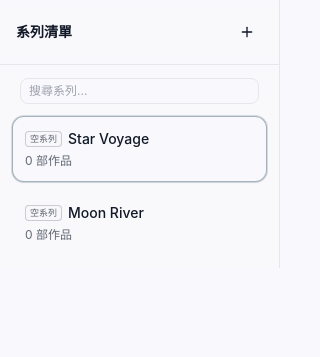
Test case: SeriesListPane unsaved-change guard › cancel hides banner and keeps current selection
Click the text "Moon River" at (84, 212), box [25,204,144,221]
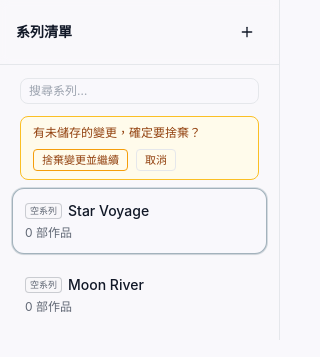
Click the button "取消" at (156, 160), box [136,149,176,171]
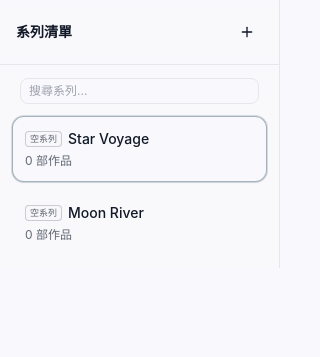
Expected: the text "有未儲存的變更" is gone
